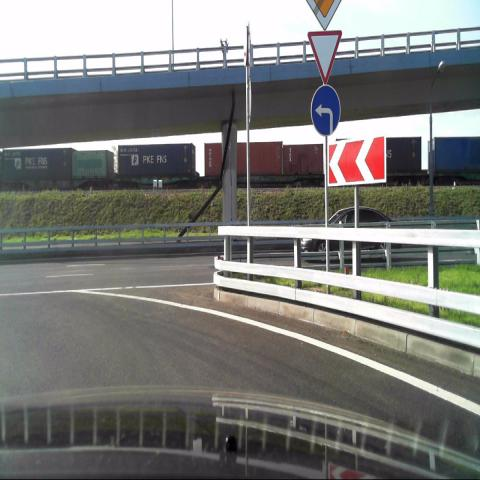4_1_3: (311, 84, 342, 140)
